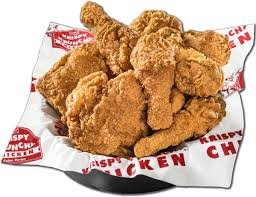curry: (36, 4, 231, 158)
